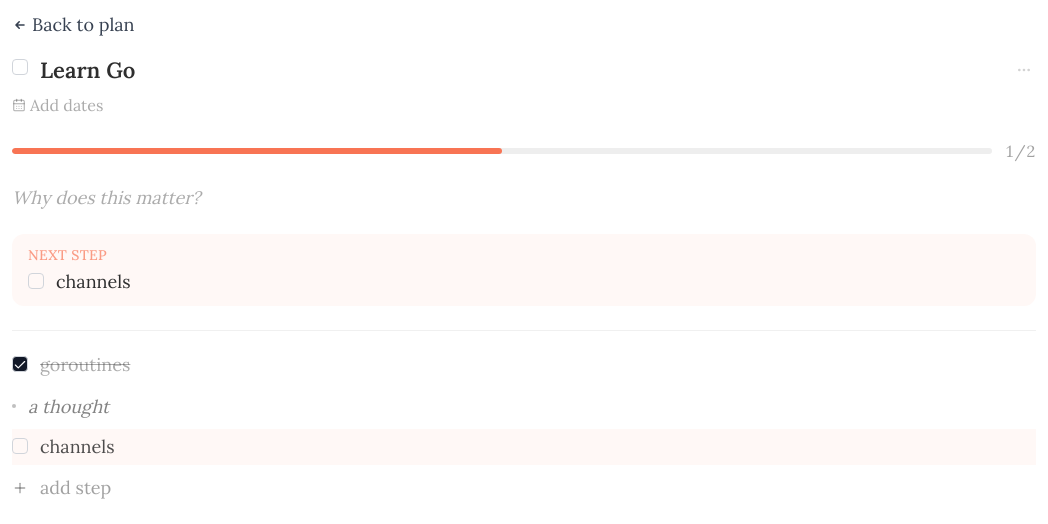
Test case: MilestonePage steps and next step › add step (R31, G9) › should close on Esc
Click the button "add step": (62, 488) left=12, top=469, right=111, bottom=507
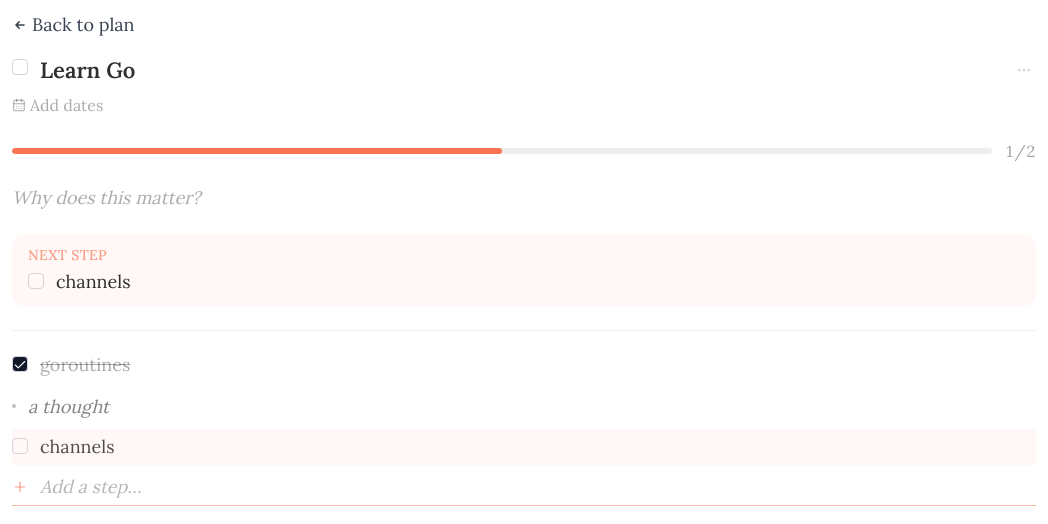
In the field named "Add a step to Learn Go": (538, 487) left=40, top=475, right=1036, bottom=499, type "half a thought"
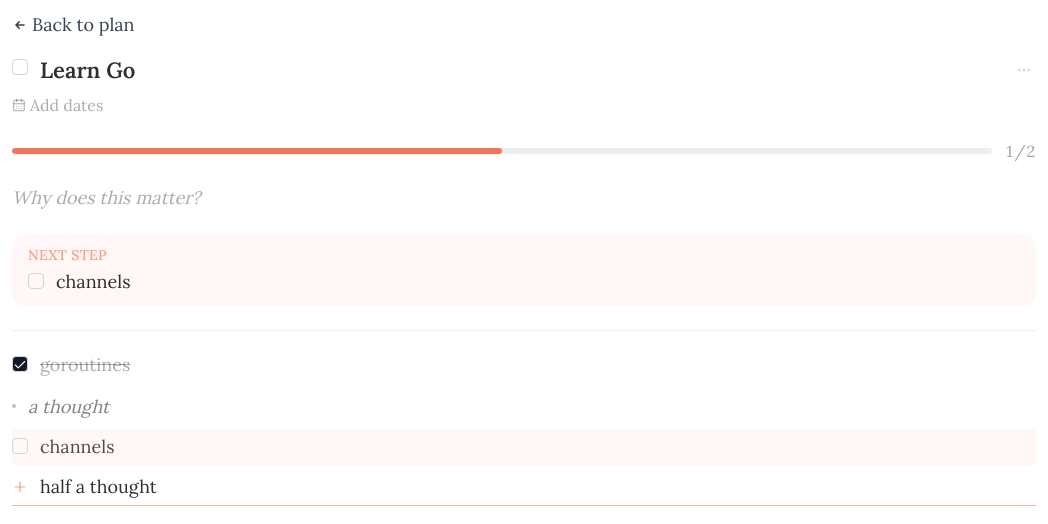
Press Escape in the field named "Add a step to Learn Go", box left=40, top=475, right=1036, bottom=499
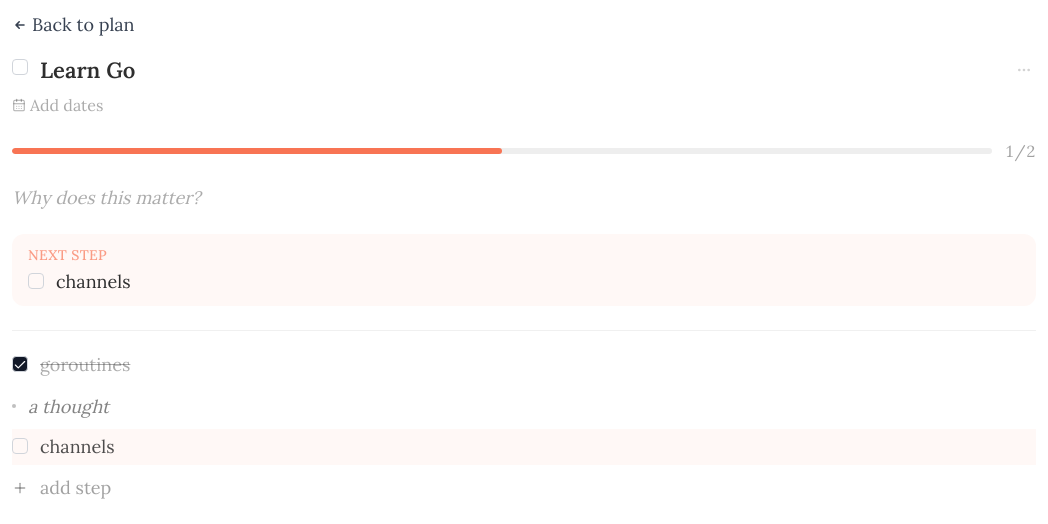
Expected: the button "add step" is shown, left=12, top=469, right=111, bottom=507
